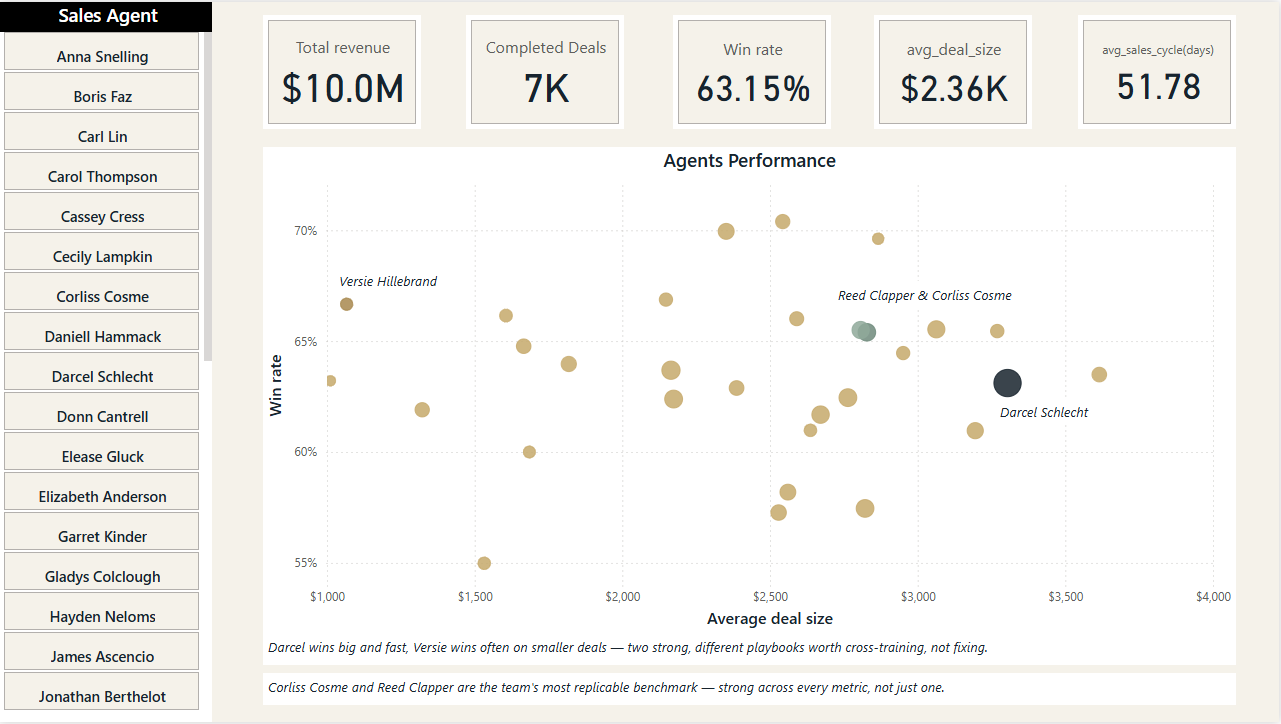

This screenshot's page, from the dashboard's own definition file:
{"tool":"powerbi","page":{"name":"Agent-level  performance","canvas":[1280,720],"ordinal":2},"visuals":[{"type":"scatterChart","title":"Agents Performance","fields":{"Category":["sales_teams.sales_agent"],"X":["sales_pipeline.avg_deal_size"],"Size":["sales_pipeline.Total revenue"],"Y":["sales_pipeline.Win rate"],"Series":["sales_teams.Highlight Agent"]},"box":[264,145,973,486],"z":0},{"type":"advancedSlicerVisual","title":"Sales Agent","fields":{"Values":["sales_teams.sales_agent"]},"box":[0,0,213,720],"z":1000},{"type":"cardVisual","fields":{"Data":["sales_pipeline.Total revenue"]},"box":[264,13,158,114],"z":2000},{"type":"cardVisual","fields":{"Data":["sales_pipeline.Completed Deals"]},"box":[467,13,158,114],"z":3000},{"type":"cardVisual","fields":{"Data":["sales_pipeline.Win rate"]},"box":[674,13,158,114],"z":4000},{"type":"cardVisual","fields":{"Data":["sales_pipeline.avg_deal_size"]},"box":[875,13,158,114],"z":5000},{"type":"cardVisual","title":"sad","fields":{"Data":["sales_pipeline.avg_sales_cycle (days)"]},"box":[1079,13,158,114],"z":6000},{"type":"textbox","box":[264,631,973,32],"z":7000},{"type":"textbox","box":[264,671,973,32],"z":8000},{"type":"textbox","box":[834,279,199,27],"z":9000},{"type":"textbox","box":[996,396,102,27],"z":10000},{"type":"textbox","box":[335,265,113,27],"z":10001}]}

Visuals, with their boxes in screenshot pixels (x1, y1, x2, y2), scaled from the page's 1280x720 canvas onto the 1281x724 screenshot:
"Agents Performance" scatterChart: {"x1": 264, "y1": 146, "x2": 1238, "y2": 635}
"Sales Agent" advancedSlicerVisual: {"x1": 0, "y1": 0, "x2": 213, "y2": 723}
cardVisual - sales_pipeline.Total revenue: {"x1": 264, "y1": 13, "x2": 422, "y2": 128}
cardVisual - sales_pipeline.Completed Deals: {"x1": 467, "y1": 13, "x2": 625, "y2": 128}
cardVisual - sales_pipeline.Win rate: {"x1": 675, "y1": 13, "x2": 833, "y2": 128}
cardVisual - sales_pipeline.avg_deal_size: {"x1": 876, "y1": 13, "x2": 1034, "y2": 128}
"sad" cardVisual: {"x1": 1080, "y1": 13, "x2": 1238, "y2": 128}
textbox: {"x1": 264, "y1": 635, "x2": 1238, "y2": 667}
textbox: {"x1": 264, "y1": 675, "x2": 1238, "y2": 707}
textbox: {"x1": 835, "y1": 281, "x2": 1034, "y2": 308}
textbox: {"x1": 997, "y1": 398, "x2": 1099, "y2": 425}
textbox: {"x1": 335, "y1": 266, "x2": 448, "y2": 294}
